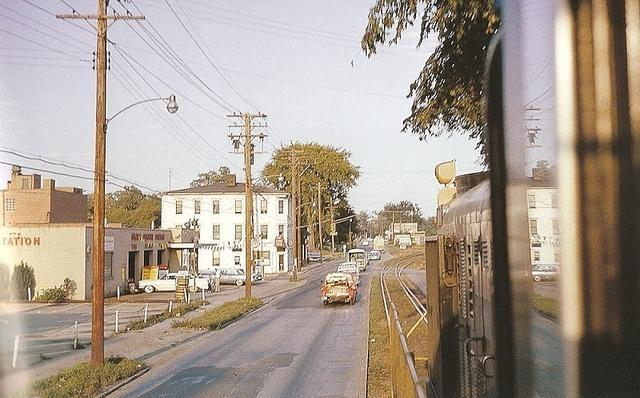car: (138, 272, 211, 294), (320, 272, 358, 306), (198, 268, 256, 285), (338, 262, 362, 286), (368, 250, 382, 260), (362, 240, 368, 245)
